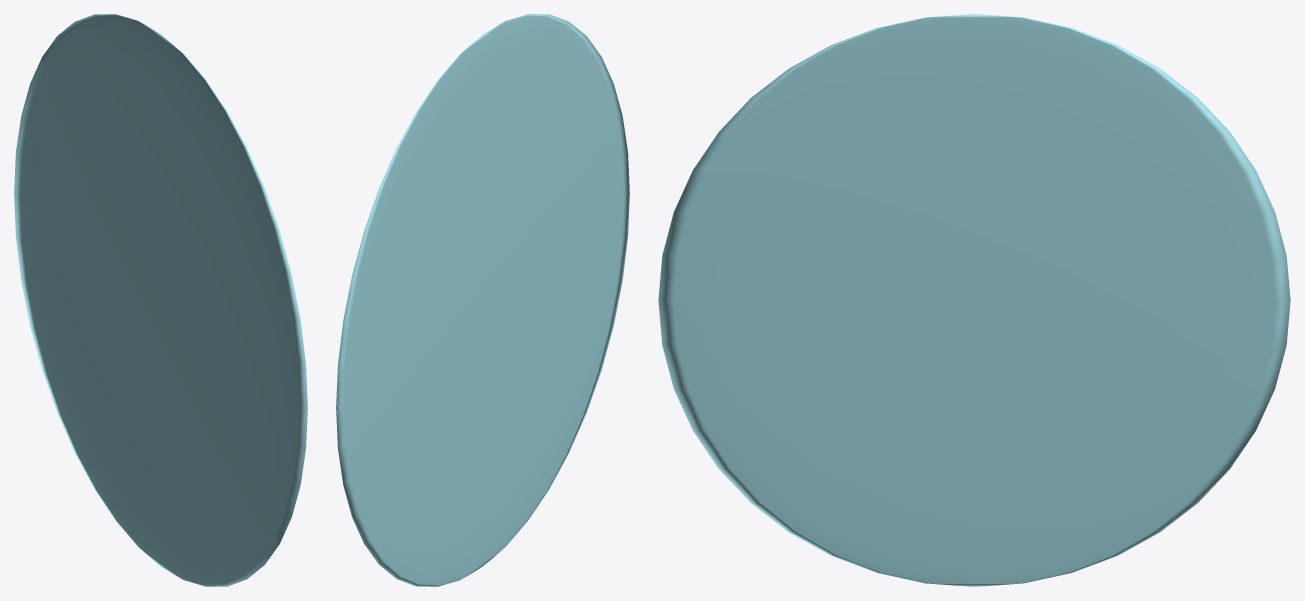
File: cristal.obj
The picture shows the model from 3 angles, left to right: view 1: azimuth 30°, elevation 25°; view 2: azimuth 150°, elevation 25°; view 3: azimuth 270°, elevation 25°; orthographic projection. The views are drawn at different scales.
Visible parts, largest first — view 1: cristalPuertaCocina; view 2: cristalPuertaCocina; view 3: cristalPuertaCocina.
Boxes of the visible parts, x1=… form: cristalPuertaCocina: x1=14, y1=14, x2=307, y2=586; cristalPuertaCocina: x1=336, y1=14, x2=629, y2=586; cristalPuertaCocina: x1=658, y1=14, x2=1290, y2=586.
Size of the model in its own units: 0.0226 by 2.14 by 2.14.
Materials: 1 (1 with a texture image).
